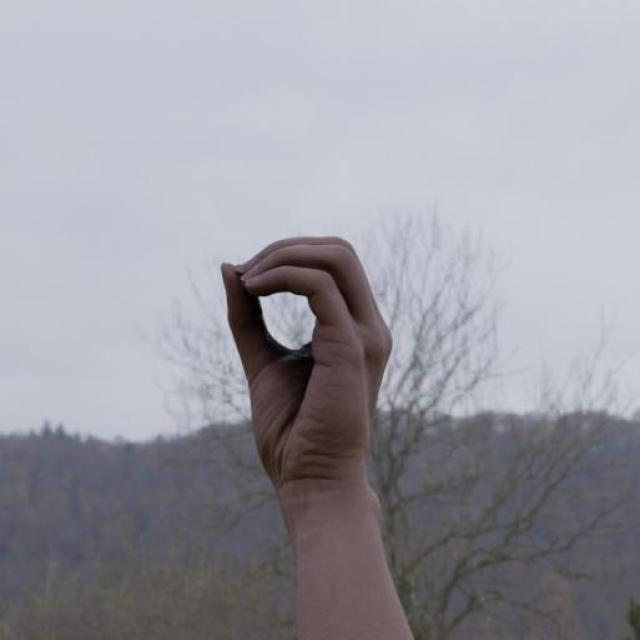O: (194, 211, 415, 550)
